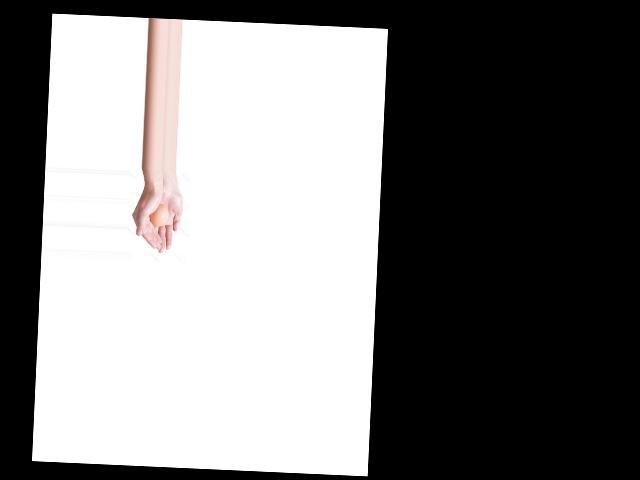egg: (149, 205, 167, 227)
